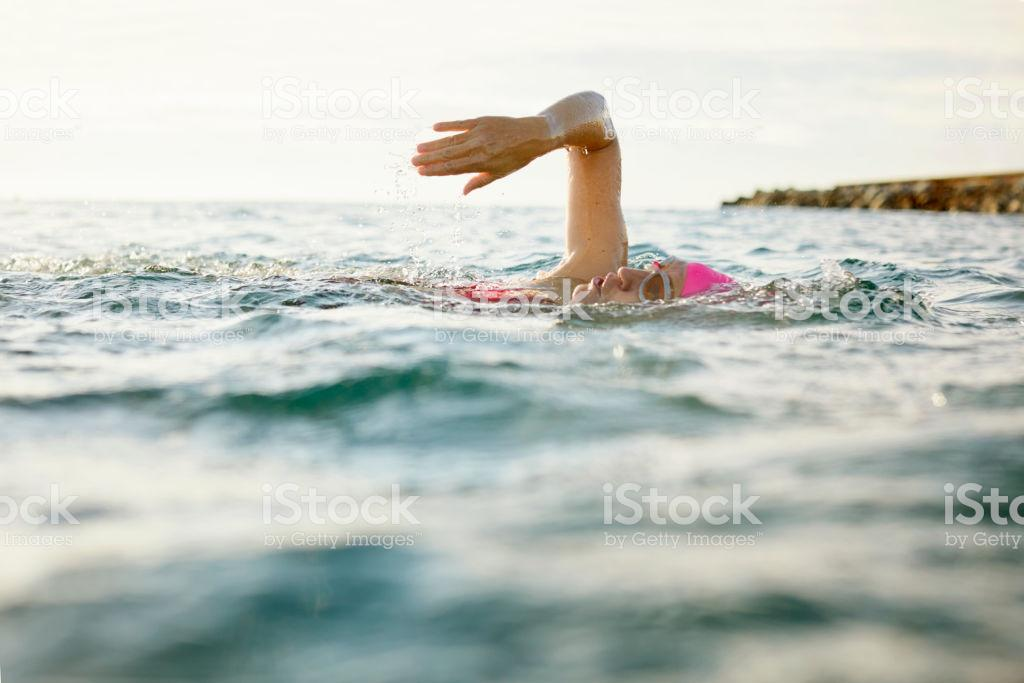human: (398, 85, 746, 312)
